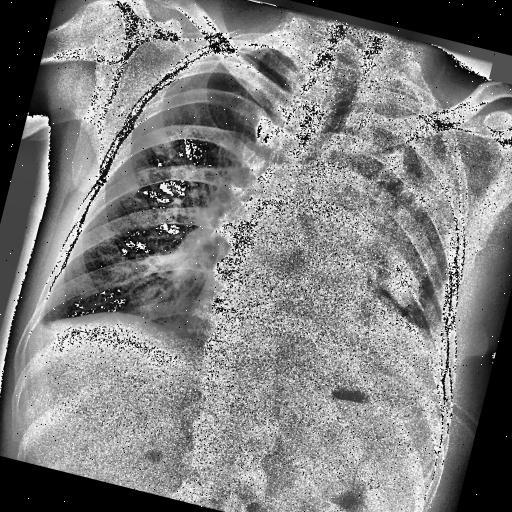1- Atelectasis: (290, 54, 502, 337)
10- Pleural effusion: (320, 266, 465, 440), (358, 276, 478, 466), (24, 302, 56, 348), (32, 308, 55, 336)
11- Pleural thickening: (348, 80, 478, 182), (24, 302, 56, 348), (32, 308, 55, 336)
3- Cardiomegaly: (162, 256, 458, 438), (186, 244, 440, 395)
4- Consolidation: (298, 130, 480, 323)
7- Lung Opacity: (290, 54, 502, 337), (294, 60, 502, 339), (298, 130, 480, 323)
9- Other lesion: (227, 28, 369, 271)
